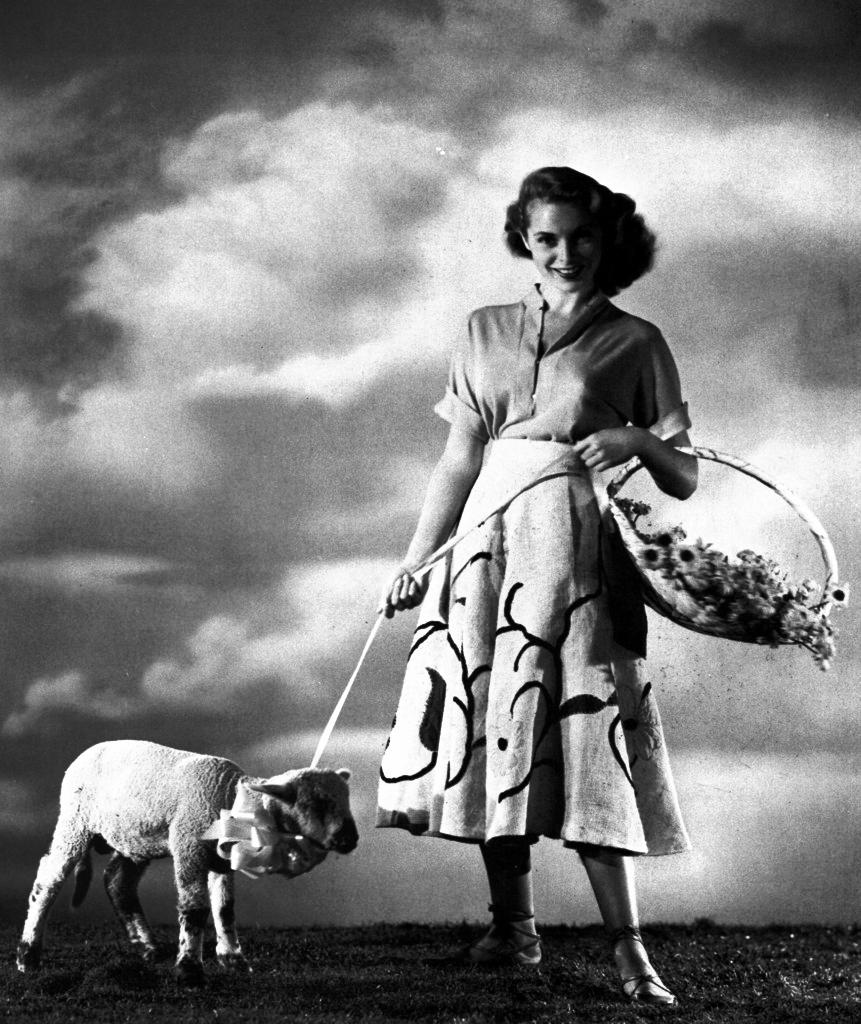Sheep: (13, 740, 356, 974)
